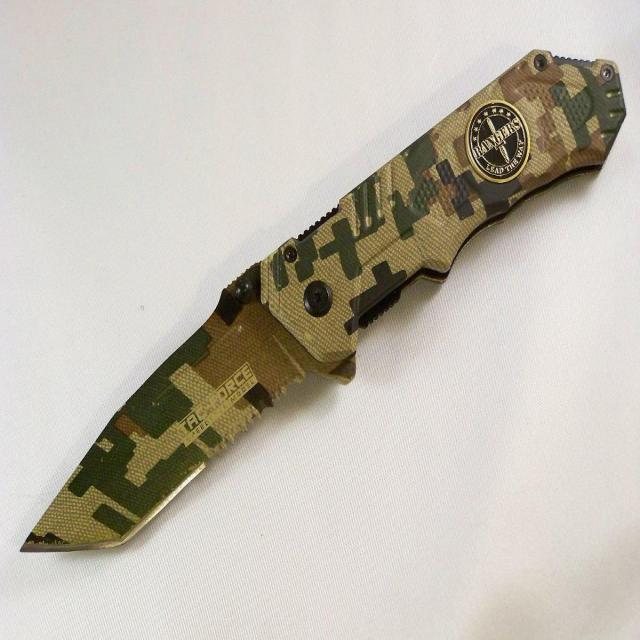faca: (18, 48, 627, 553)
